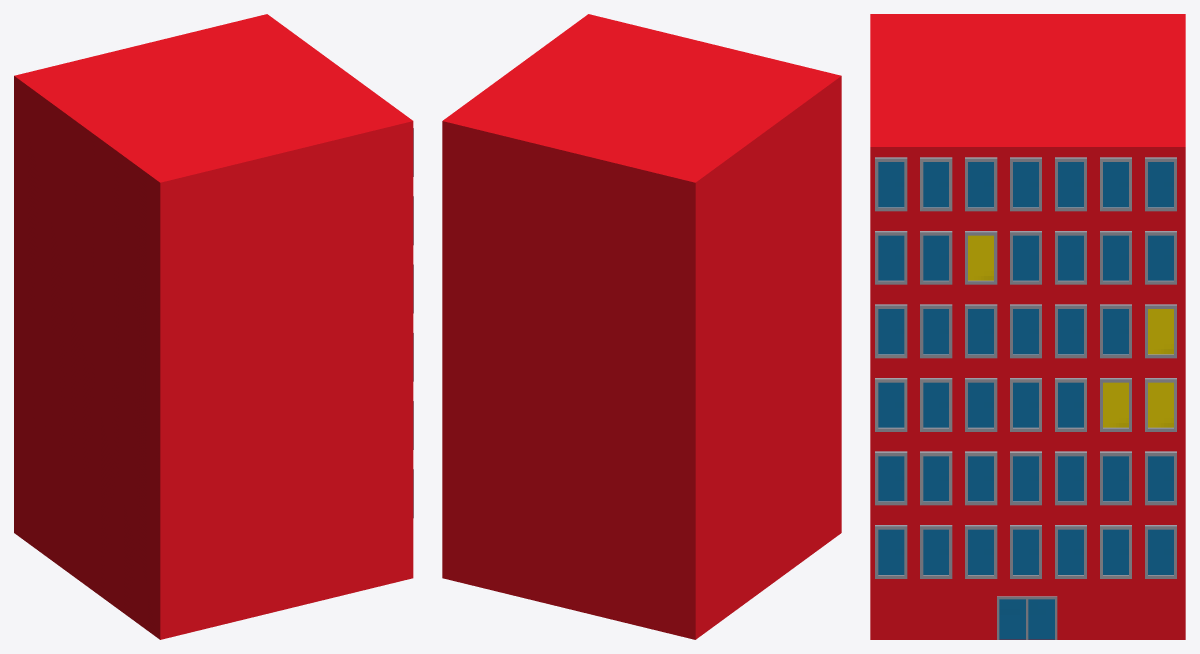
The model's file is medium_building.glb.
3 renders of one model, left to right at view 1: azimuth 30°, elevation 25°; view 2: azimuth 150°, elevation 25°; view 3: azimuth 270°, elevation 25°, orthographic. The views are drawn at different scales.
Parts seen in each view (by area): view 1: MediumBuilding; view 2: MediumBuilding; view 3: MediumBuilding.
Part boxes in pixels (box(x1,y1,x2,y2)): MediumBuilding: box(14, 14, 413, 639); MediumBuilding: box(442, 14, 841, 639); MediumBuilding: box(870, 14, 1185, 639).
Size of the model in its own units: 19.82 by 33.85 by 19.62.
4 materials, 4 textured.
